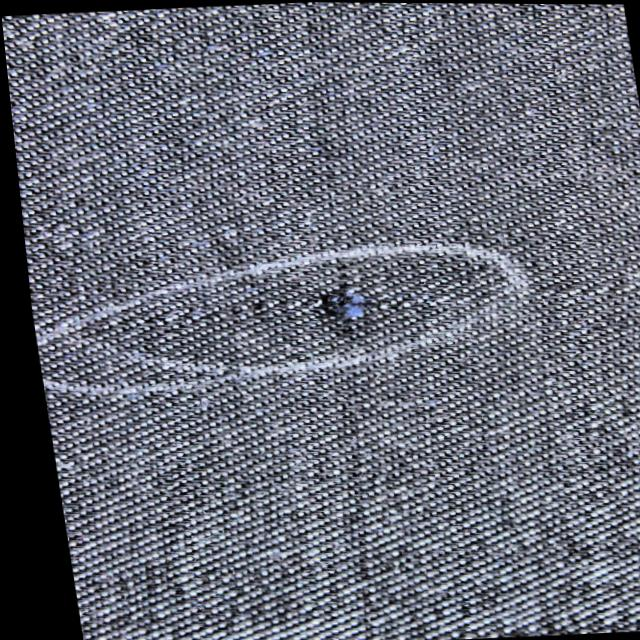Hole: (281, 277, 410, 334)
